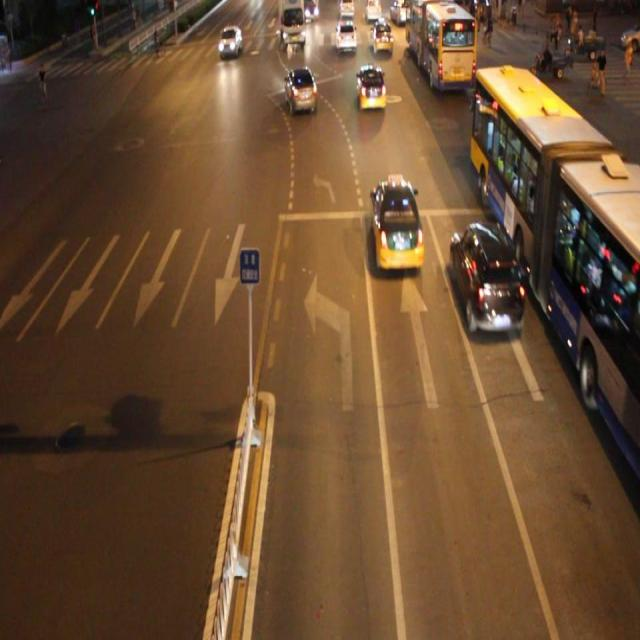car: (449, 224, 522, 332), (369, 176, 424, 272), (285, 65, 318, 112), (355, 62, 386, 112)
van: (472, 69, 640, 476)
